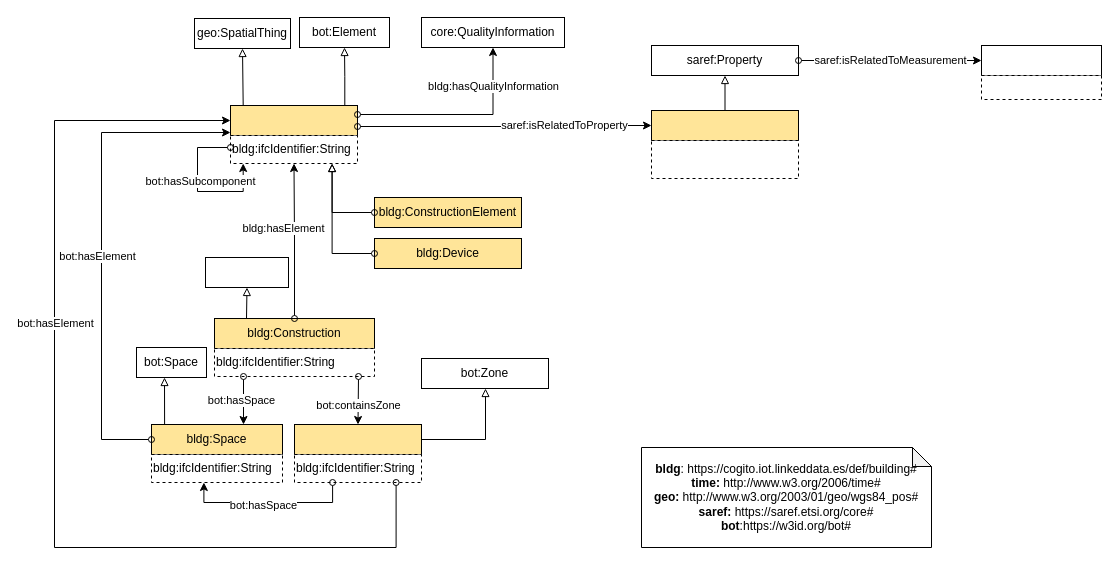
This 1119x574 diagram has some shape labels left out. Each missing label, with the box of its shape:
bldg : ifcIdentifier:String bldg : propertyName:String: (650, 140, 798, 178)
bldg:Element: (230, 104, 358, 136)
bldg:Property: (650, 110, 798, 140)
bldg:Zone: (294, 424, 422, 454)
bot:Building: (204, 256, 288, 288)
saref: value: Float: (980, 74, 1102, 100)
saref:Measurement: (980, 44, 1102, 76)
